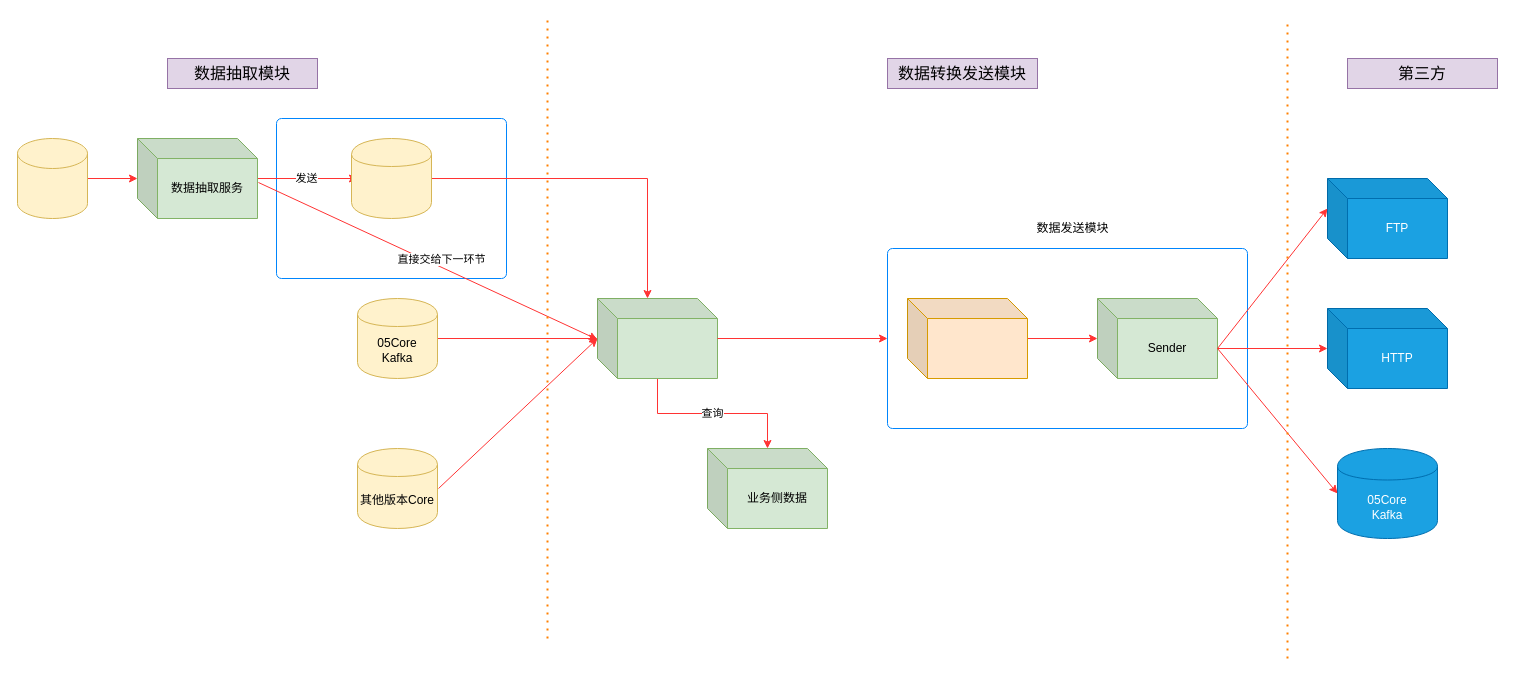
Image size: 1515x677. Some labels were removed from this diagram. The shapes that lost their labels are listed below. From the top down, each one's centre as x and y in pixels, then its label:
(52,178): 02Core PG
(391,178): Kafka
(657,338): 数据转换模块
(967,338): 数据缓冲池
